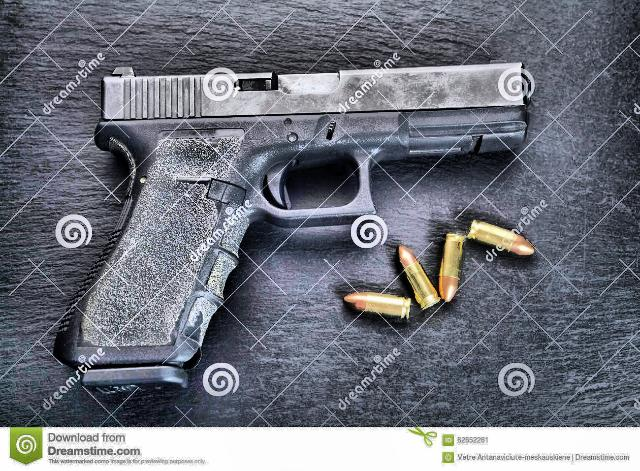pistol: (54, 60, 526, 386)
